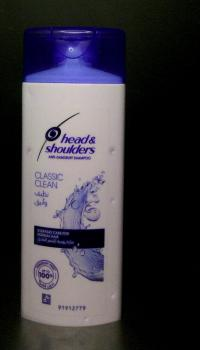dent_marginal: (106, 140, 123, 162), (22, 140, 37, 164), (22, 81, 40, 99), (108, 192, 124, 210), (106, 286, 121, 304), (75, 314, 93, 328)
